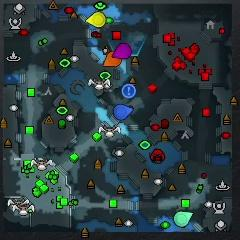Other: (121, 83, 136, 98)
p1: (113, 104, 134, 120)
p2: (174, 211, 193, 227)
p3: (112, 43, 132, 59)
p4: (86, 11, 106, 27)
p5: (102, 52, 122, 66)
